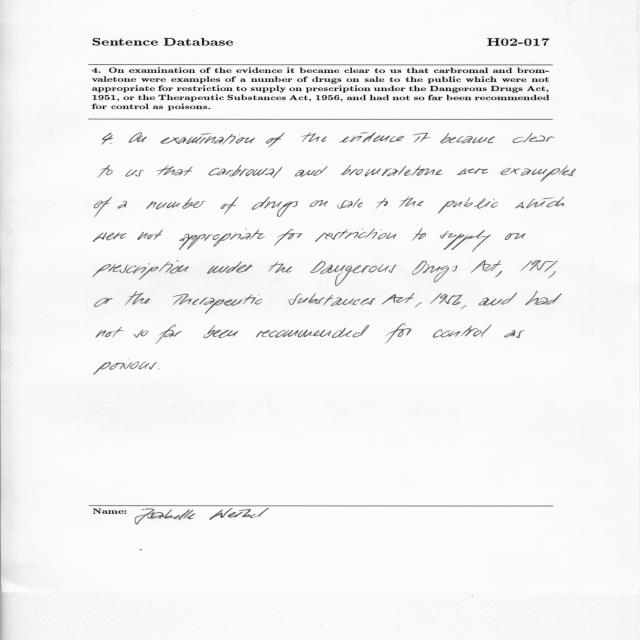word: (311, 261, 397, 286), (93, 260, 189, 280), (179, 228, 265, 250), (173, 294, 263, 314), (256, 325, 369, 338), (500, 165, 576, 182), (341, 165, 443, 177), (160, 133, 255, 145), (289, 293, 376, 306), (440, 230, 491, 252), (315, 229, 396, 242), (438, 197, 498, 214), (412, 261, 458, 283), (209, 165, 283, 178), (252, 197, 298, 217), (433, 324, 492, 338), (94, 362, 157, 375), (146, 198, 206, 209), (339, 133, 404, 143), (440, 133, 495, 144), (207, 261, 253, 274), (385, 324, 412, 344), (515, 197, 564, 208), (525, 291, 562, 305), (479, 293, 518, 306), (156, 325, 182, 344), (274, 229, 303, 246), (204, 325, 239, 338), (521, 261, 558, 273), (512, 133, 555, 143), (157, 166, 193, 177), (430, 293, 463, 305), (471, 260, 501, 273), (295, 166, 328, 177), (382, 293, 415, 304), (95, 197, 113, 217), (125, 291, 150, 305), (93, 232, 127, 242), (96, 327, 124, 338), (221, 197, 239, 214), (337, 198, 363, 209), (266, 133, 285, 148), (268, 262, 292, 273), (137, 230, 163, 240), (399, 197, 424, 207), (301, 133, 327, 142), (457, 168, 488, 175), (98, 165, 113, 178), (128, 133, 147, 143), (412, 228, 426, 241), (413, 133, 431, 143), (95, 298, 113, 307), (504, 330, 524, 338), (505, 233, 526, 240), (126, 169, 144, 177), (102, 133, 113, 145), (376, 198, 388, 209), (310, 200, 328, 207), (134, 330, 149, 338), (118, 201, 127, 209), (548, 271, 555, 279), (495, 271, 502, 278), (415, 302, 422, 308), (461, 305, 466, 310), (110, 143, 112, 144), (158, 368, 160, 369)
